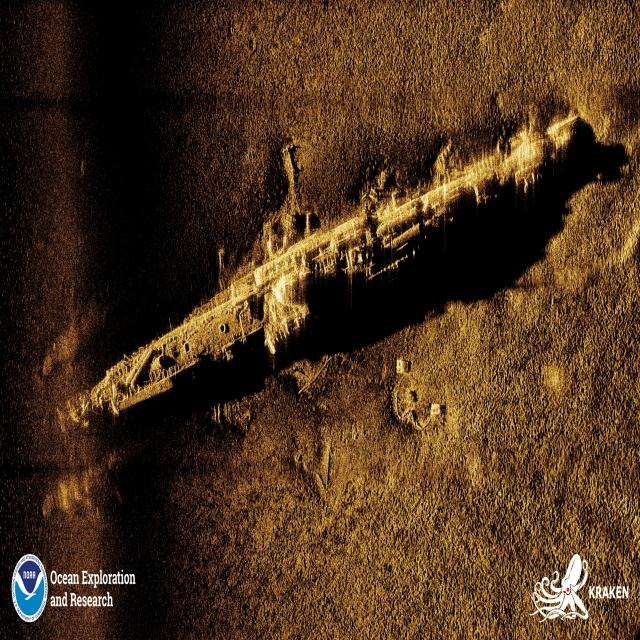ship: (99, 110, 583, 421)
